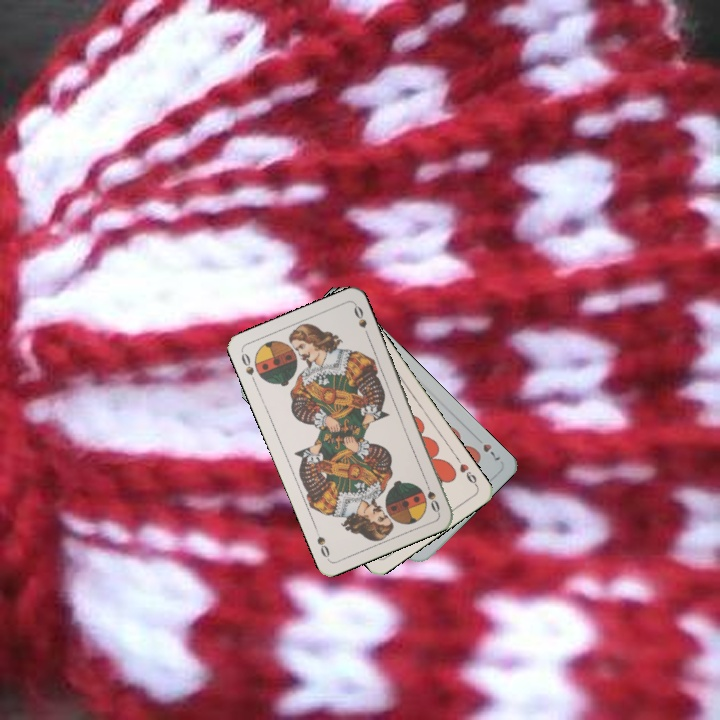H7: (471, 433, 503, 463)
H9: (453, 454, 480, 489)
SO: (237, 349, 259, 387), (421, 476, 442, 515)
